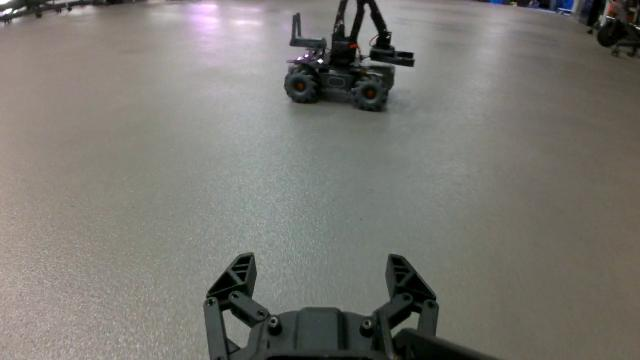robot: (283, 0, 415, 111)
